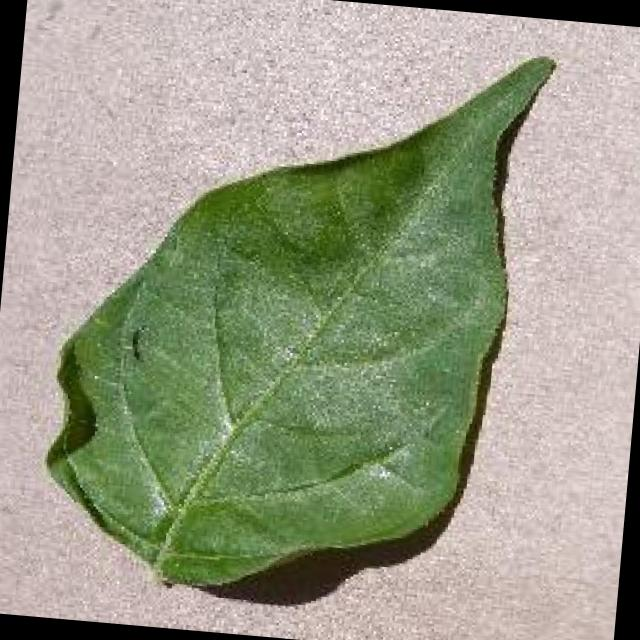Chilli_Healthy: (32, 10, 557, 617)
